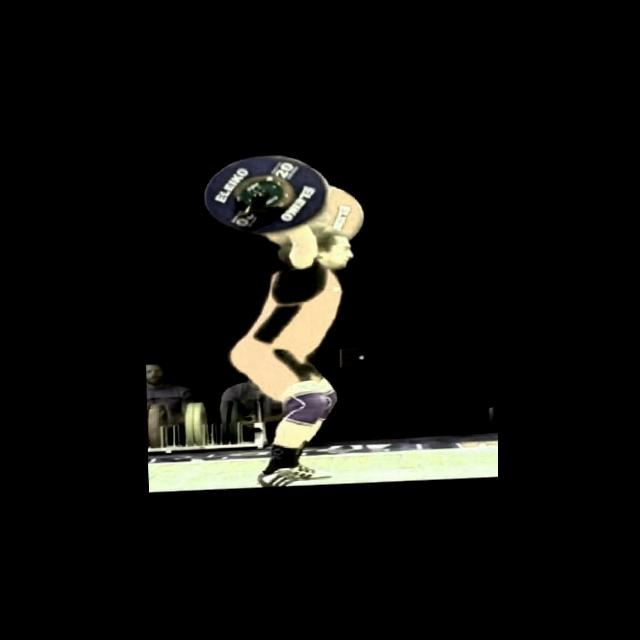barbell: (201, 151, 330, 239)
